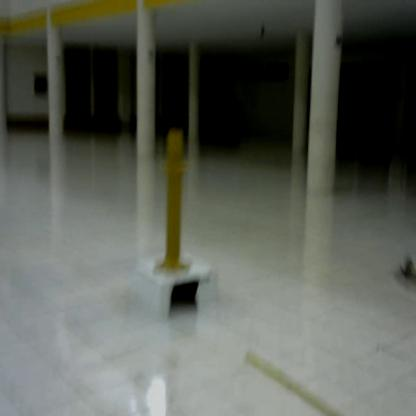pole: (148, 125, 198, 273)
